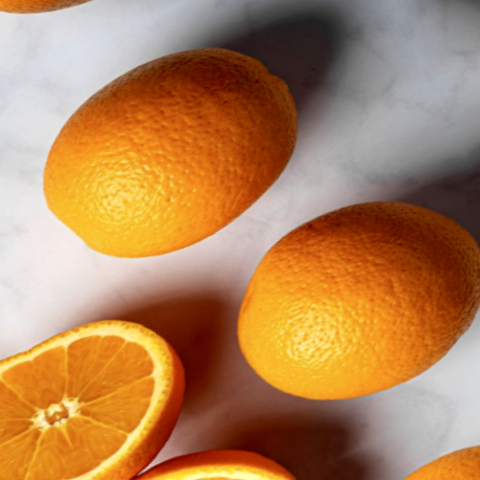orange: (2, 2, 345, 311), (192, 150, 480, 457)
